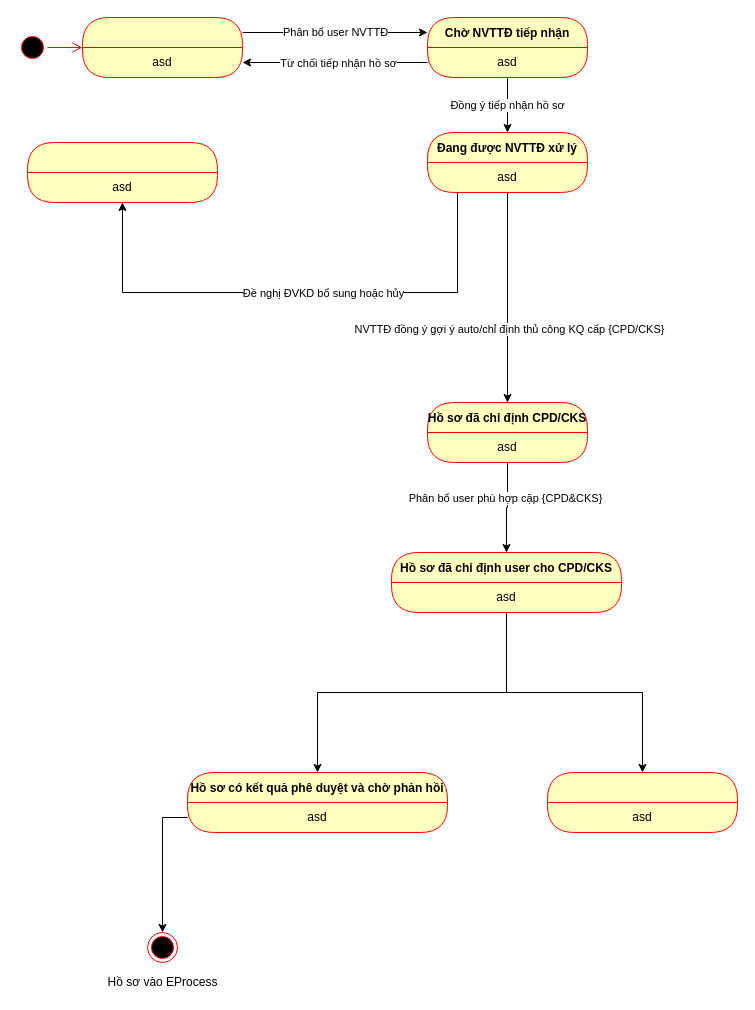
This 755x1010 diagram has some shape labels left out. The box of each missing label's shape, as (x1, y1, x2, y2) in pixels:
Chờ phân bổ: (82, 16, 242, 78)
Hồ sơ bị phong tỏa (FROZEN): (546, 772, 738, 832)
Đang được bổ sung tại ĐVKD: (26, 142, 218, 202)
